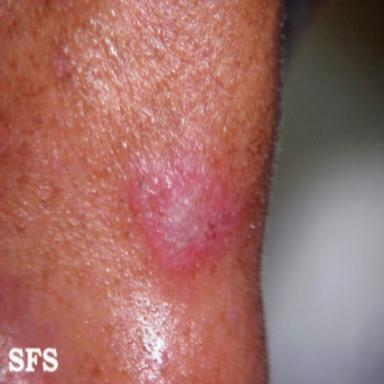Lupus-Erythematosus-Chronicus-Discoides: (129, 154, 224, 267)
